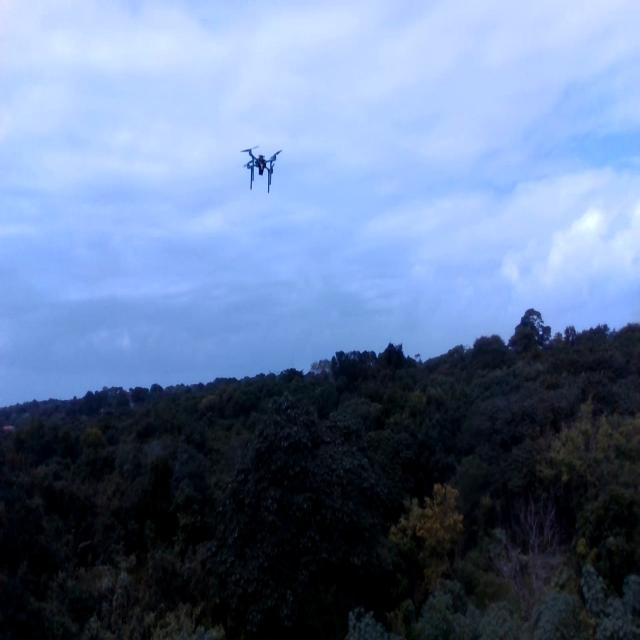-uav-: (234, 129, 287, 203)
